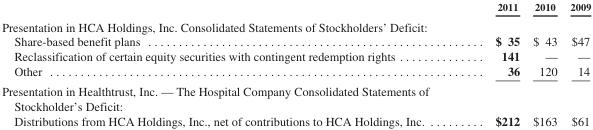table: (1, 0, 590, 127)
table column: (1, 0, 459, 127), (459, 0, 525, 127), (525, 0, 563, 127), (563, 0, 590, 127)
table column header: (1, 0, 590, 16)
table projected row header: (1, 80, 590, 113), (1, 16, 590, 33)
table row: (1, 80, 590, 113), (1, 16, 590, 33), (1, 63, 590, 80), (1, 0, 590, 16), (1, 33, 590, 48), (1, 48, 590, 63), (1, 113, 590, 127)
